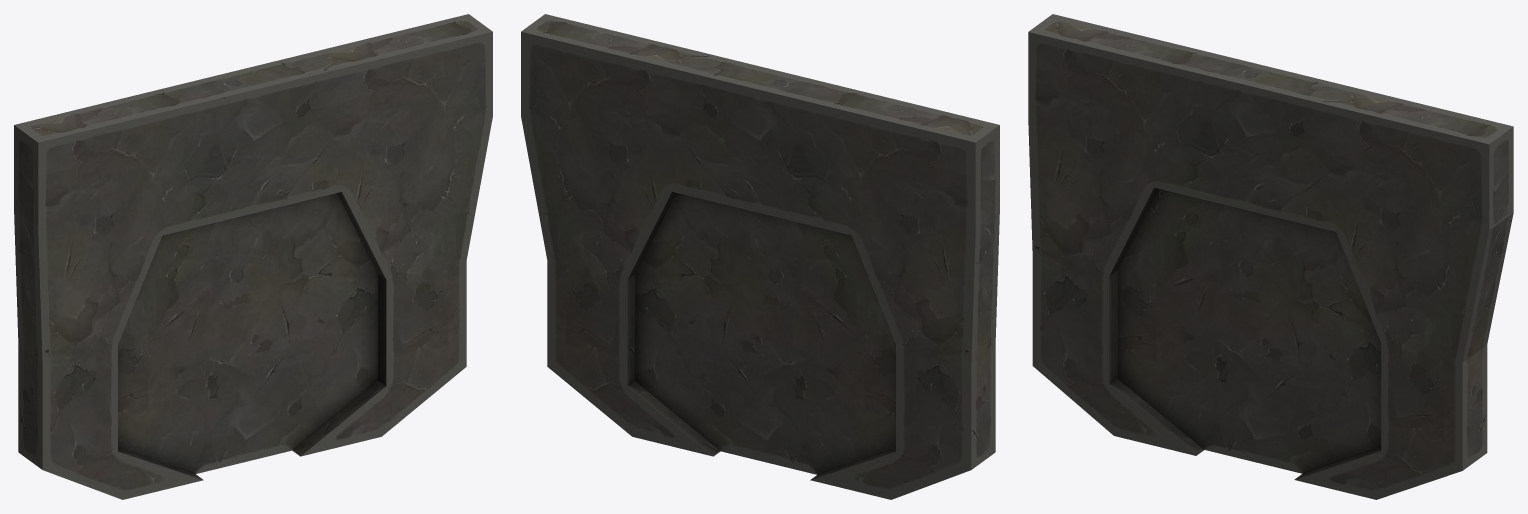
The model's file is crddr.fbx.
The picture shows the model from 3 angles, left to right: view 1: azimuth 30°, elevation 25°; view 2: azimuth 150°, elevation 25°; view 3: azimuth 330°, elevation 25°; orthographic projection.
Visible parts, largest first — view 1: pCube26; view 2: pCube26; view 3: pCube26.
Boxes of the visible parts, x1,y1,x2,y2 form: pCube26: [14, 14, 492, 499]; pCube26: [521, 14, 999, 499]; pCube26: [1028, 14, 1513, 499].
Size of the model in its own units: 5.64 by 4.48 by 0.5188.
Materials: 1 (1 with a texture image).
